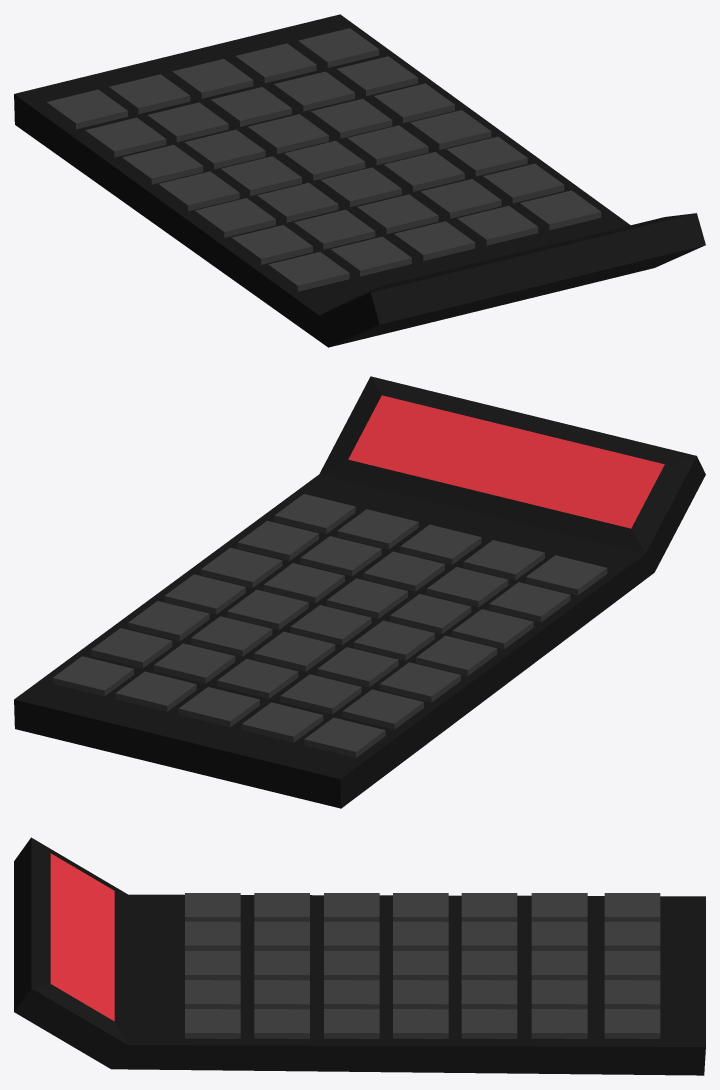
Rendered from calculator.glb.
The picture shows the model from 3 angles, top to bottom: view 1: azimuth 30°, elevation 25°; view 2: azimuth 150°, elevation 25°; view 3: azimuth 270°, elevation 25°; orthographic projection. The views are drawn at different scales.
Visible parts, largest first — view 1: Node; view 2: Node; view 3: Node.
Boxes of the visible parts, x1=… form: Node: x1=14, y1=14, x2=705, y2=347; Node: x1=14, y1=376, x2=705, y2=808; Node: x1=14, y1=837, x2=705, y2=1075.
Size of the model in its own units: 0.1361 by 0.0368 by 0.2642.
Materials: 1 (1 with a texture image).
